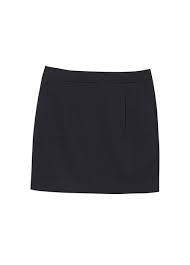F_tailored skirt: (25, 63, 166, 194)
